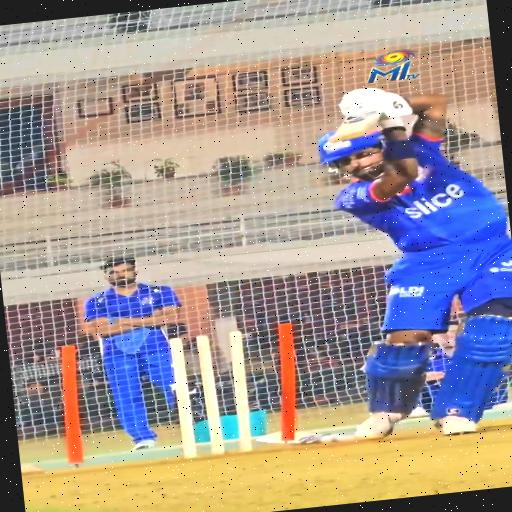Cricket bat: (329, 115, 378, 142)
